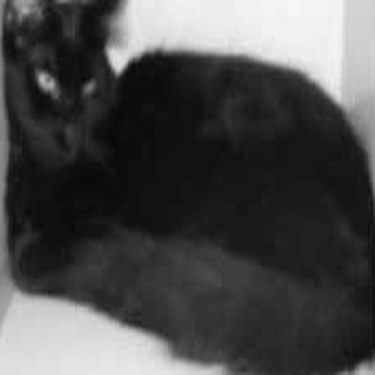cat: (3, 1, 372, 371)
